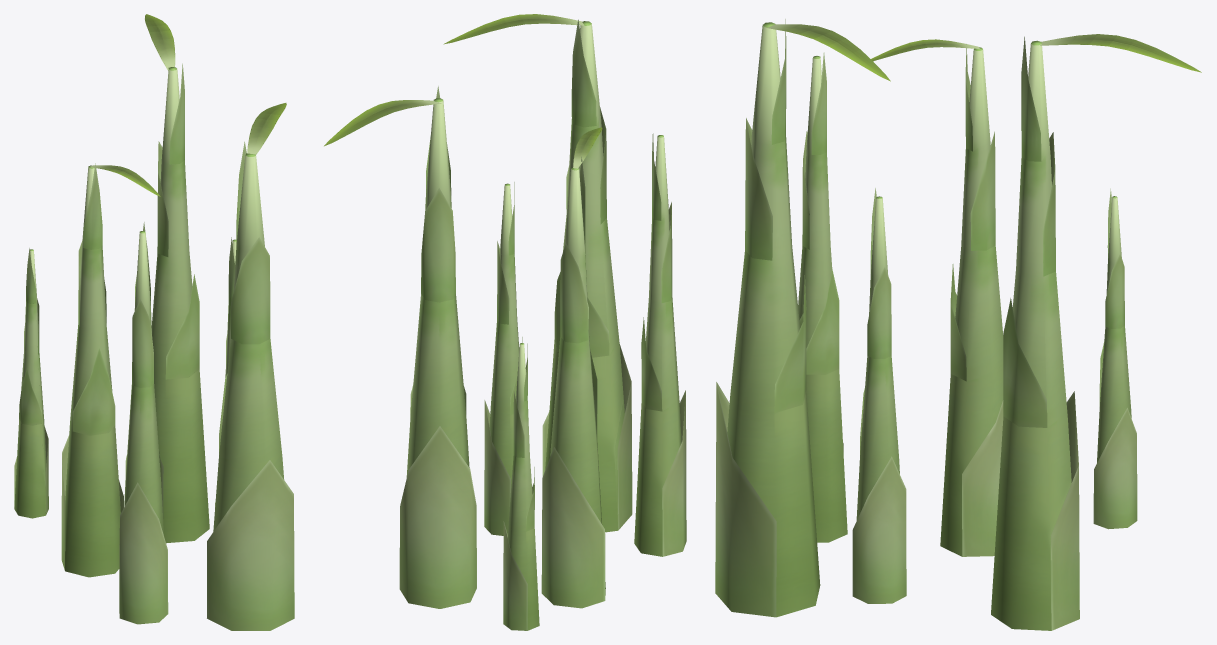
The model's file is Model_PlantaBrotoGengibreTexture_v1.fbx.
3 views of the same model, side by side, from view 1: azimuth 30°, elevation 25°; view 2: azimuth 150°, elevation 25°; view 3: azimuth 270°, elevation 25° (orthographic). The views are drawn at different scales.
Visible parts, largest first — view 1: gengibre broto.002; view 2: gengibre broto.002; view 3: gengibre broto.002.
Part boxes in pixels (x1=…): gengibre broto.002: x1=14, y1=14, x2=294, y2=630; gengibre broto.002: x1=324, y1=14, x2=686, y2=630; gengibre broto.002: x1=715, y1=19, x2=1201, y2=630.
Size of the model in its own units: 29.9 by 68.76 by 52.13.
1 material, 1 textured.
